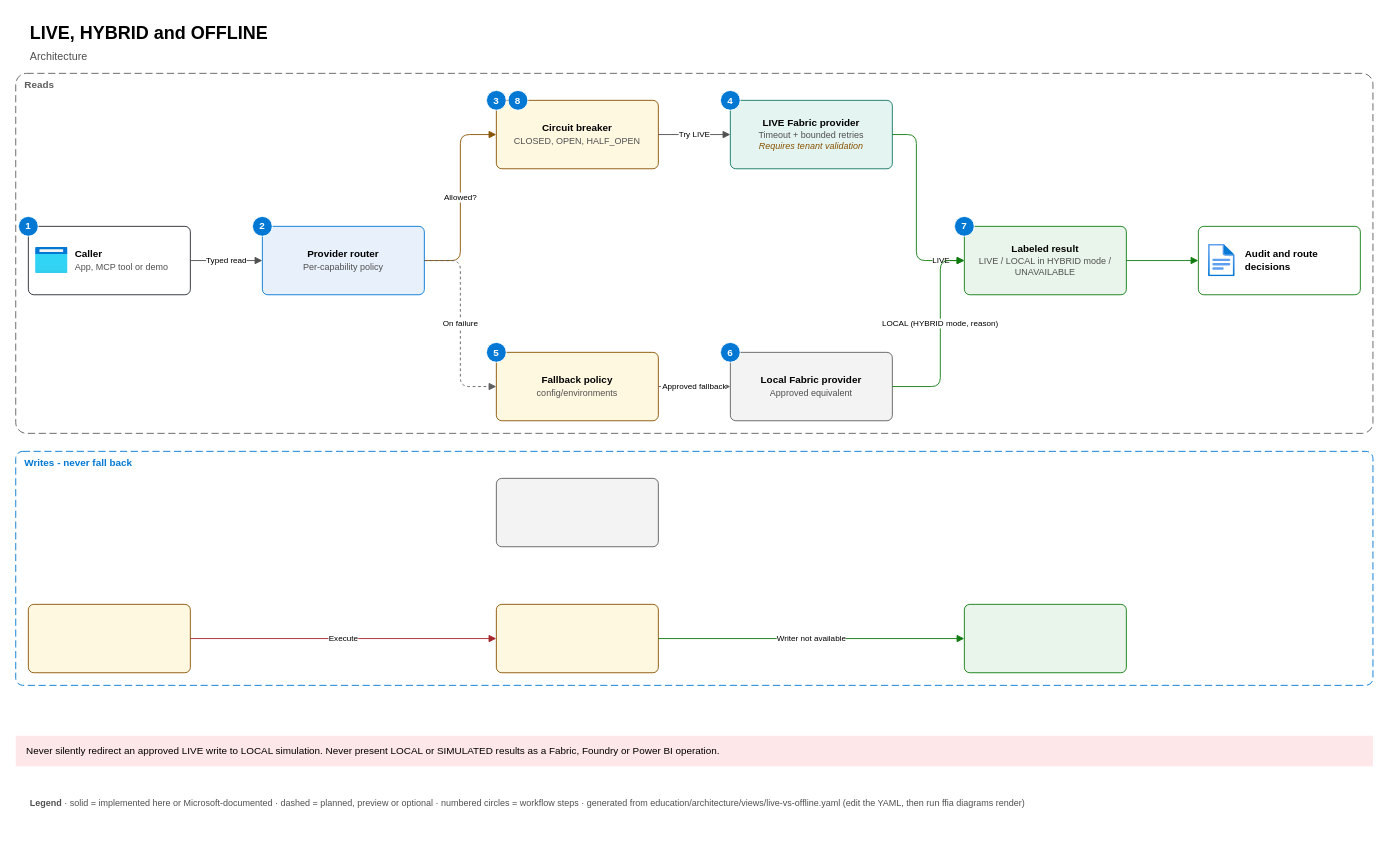
Some shapes in this 1389 by 842 pixel diagram are drawn without their labels. Each missing label, with the centre of its shape:
"Approved LIVE write Plan + approval" belongs at [108,638].
"Live writer Authorized, narrowly scoped Requires tenant validation" belongs at [576,638].
"Simulated workspace LOCAL rehearsals only" belongs at [576,512].
"UNAVAILABLE (HTTP 409) Plan again - nothing redirected" belongs at [1044,638].
